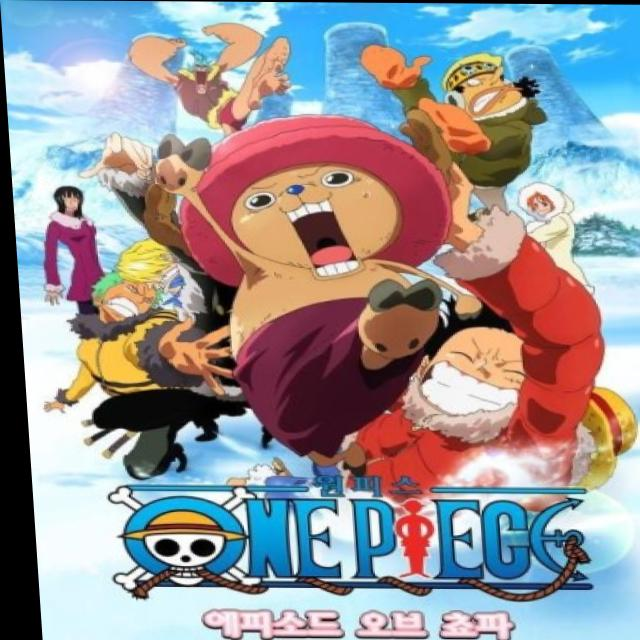Chyopa: (144, 111, 442, 293)
Franky: (177, 47, 221, 103)
Luffy: (376, 302, 561, 439)
Nami: (515, 177, 569, 224)
NicoRobin: (41, 179, 93, 231)
Sangdi: (107, 235, 186, 288)
Usopp: (435, 45, 542, 119)
Zoro: (69, 270, 157, 330)
